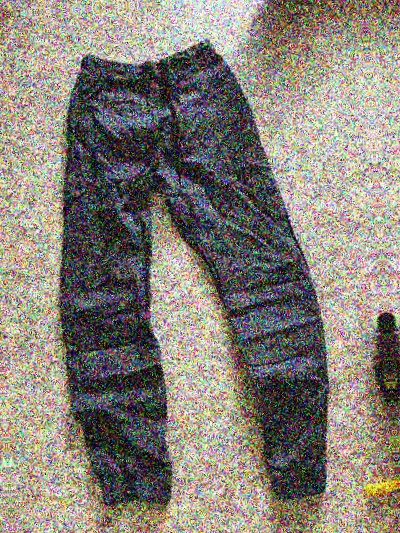Pants: (14, 29, 371, 519), (394, 2, 400, 491)
